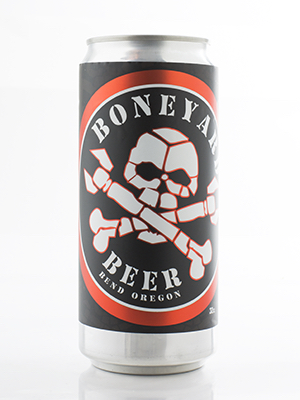beer can: (72, 31, 222, 377)
